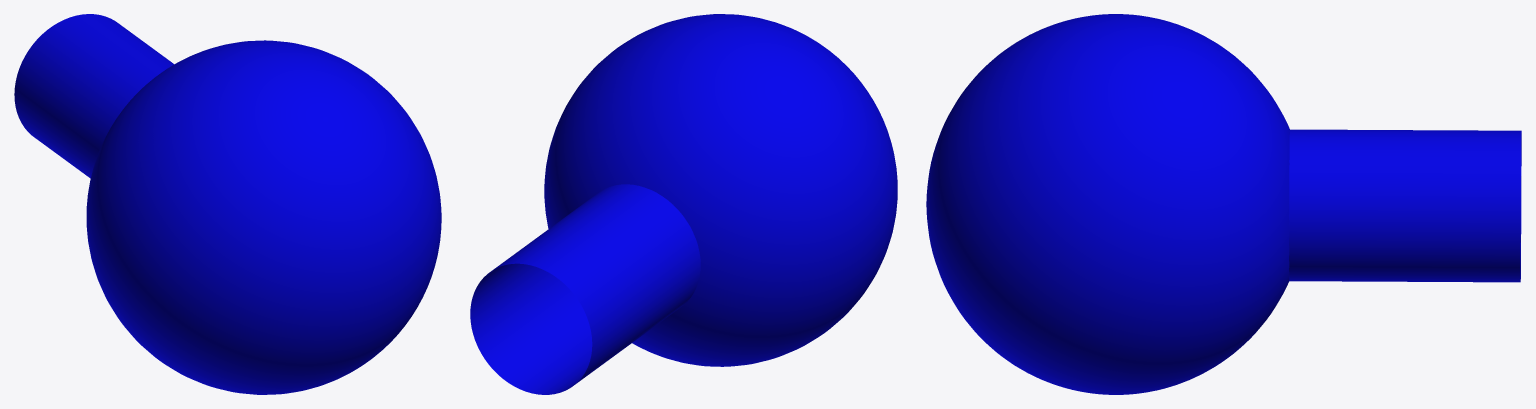
File: HIDROGENO1.fbx
3 views of the same model, side by side, from view 1: azimuth 30°, elevation 25°; view 2: azimuth 150°, elevation 25°; view 3: azimuth 270°, elevation 25° (orthographic). The views are drawn at different scales.
Visible parts, largest first — view 1: Mesh.001; view 2: Mesh.001; view 3: Mesh.001.
Boxes of the visible parts, x1,y1,x2,y2 form: Mesh.001: (14,14,441,394); Mesh.001: (470,14,897,394); Mesh.001: (926,14,1521,394).
Size of the model in its own units: 282 by 281 by 441.
